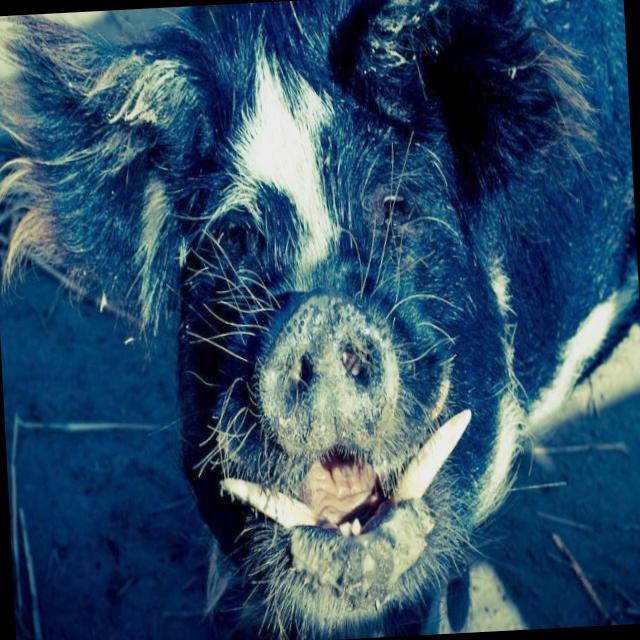pig: (0, 0, 640, 635)
